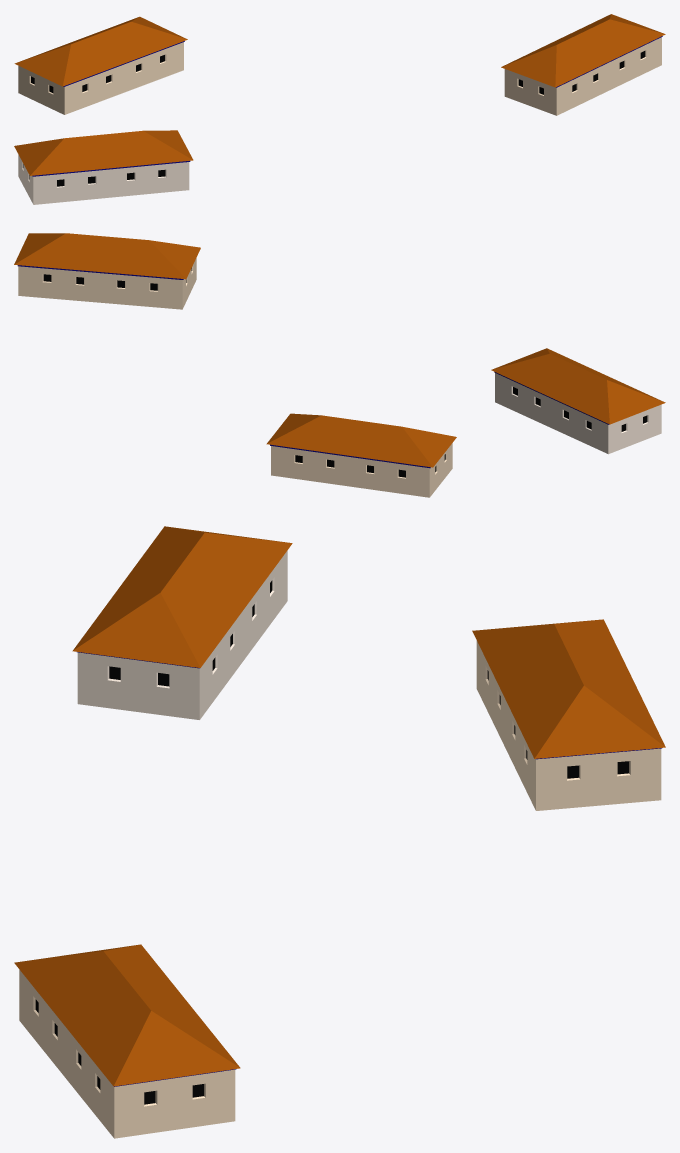
File: AkropolisHaeuserOben.fbx
3 renders of one model, top to bottom at view 1: azimuth 30°, elevation 25°; view 2: azimuth 150°, elevation 25°; view 3: azimuth 270°, elevation 25°, orthographic. The views are drawn at different scales.
Parts seen in each view (by area): view 1: AkropolisHaeuserOben; view 2: AkropolisHaeuserOben; view 3: AkropolisHaeuserOben.
Part boxes in pixels (bbox=[...]): AkropolisHaeuserOben: bbox=[14, 14, 665, 204]; AkropolisHaeuserOben: bbox=[14, 233, 665, 497]; AkropolisHaeuserOben: bbox=[14, 526, 665, 1138].
Bounding box in the file's own units: 272 × 20.36 × 134.
